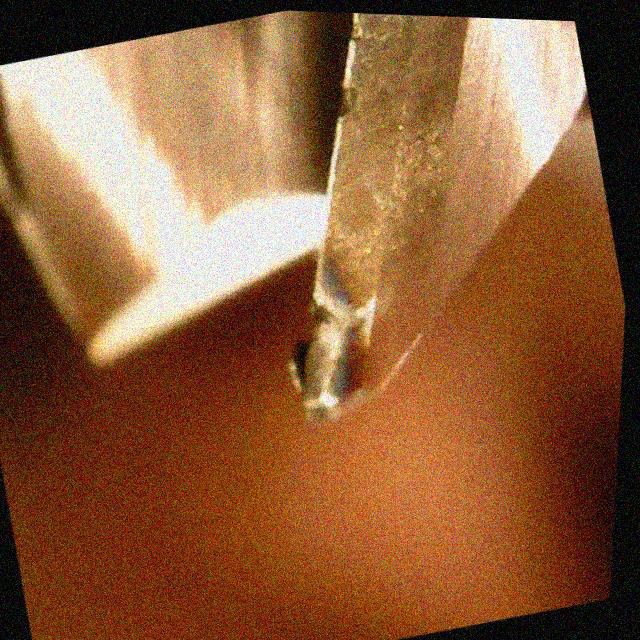Tool-wear-class-1: (212, 64, 500, 445)
